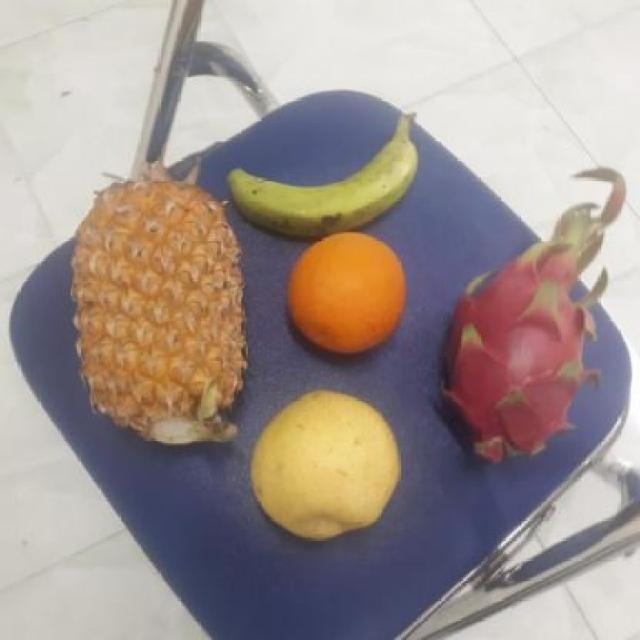banana: (221, 99, 421, 242)
dragon fruit: (428, 248, 595, 463)
oren: (282, 229, 413, 354)
pear: (241, 392, 397, 540)
pineapple: (68, 179, 245, 450)
